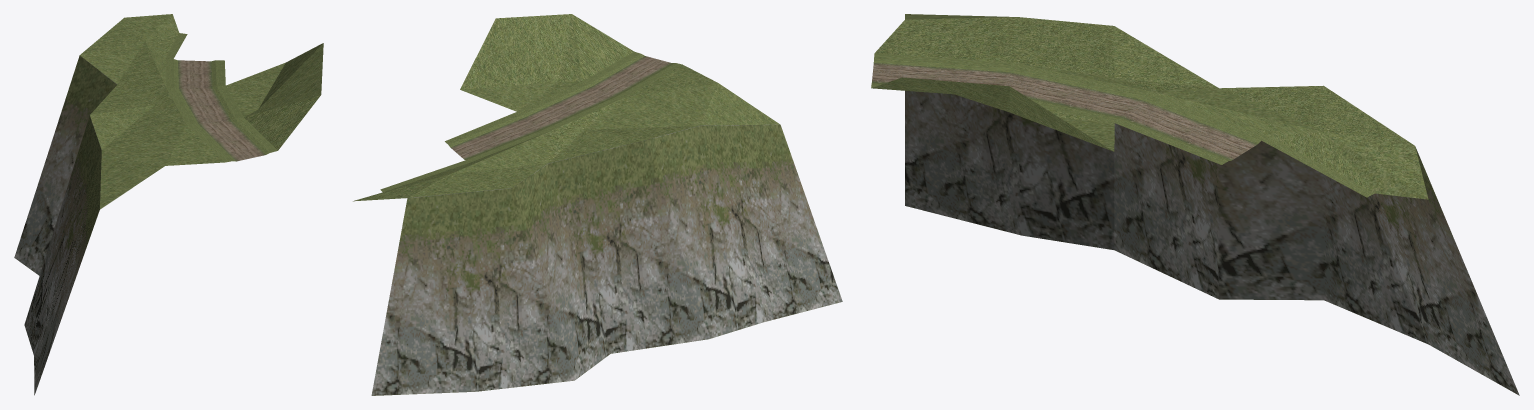
File: nw_bit_11.obj
The picture shows the model from 3 angles, left to right: view 1: azimuth 30°, elevation 25°; view 2: azimuth 150°, elevation 25°; view 3: azimuth 270°, elevation 25°; orthographic projection. The views are drawn at different scales.
Parts seen in each view (by area): view 1: nw_bit_11; view 2: nw_bit_11; view 3: nw_bit_11.
Part boxes in pixels (left/top/right/bottom): nw_bit_11: left=14, top=14, right=323, bottom=395; nw_bit_11: left=353, top=14, right=842, bottom=395; nw_bit_11: left=871, top=14, right=1519, bottom=395.
Bounding box in the file's own units: 88.26 × 64.51 × 109.
3 materials, 3 textured.
